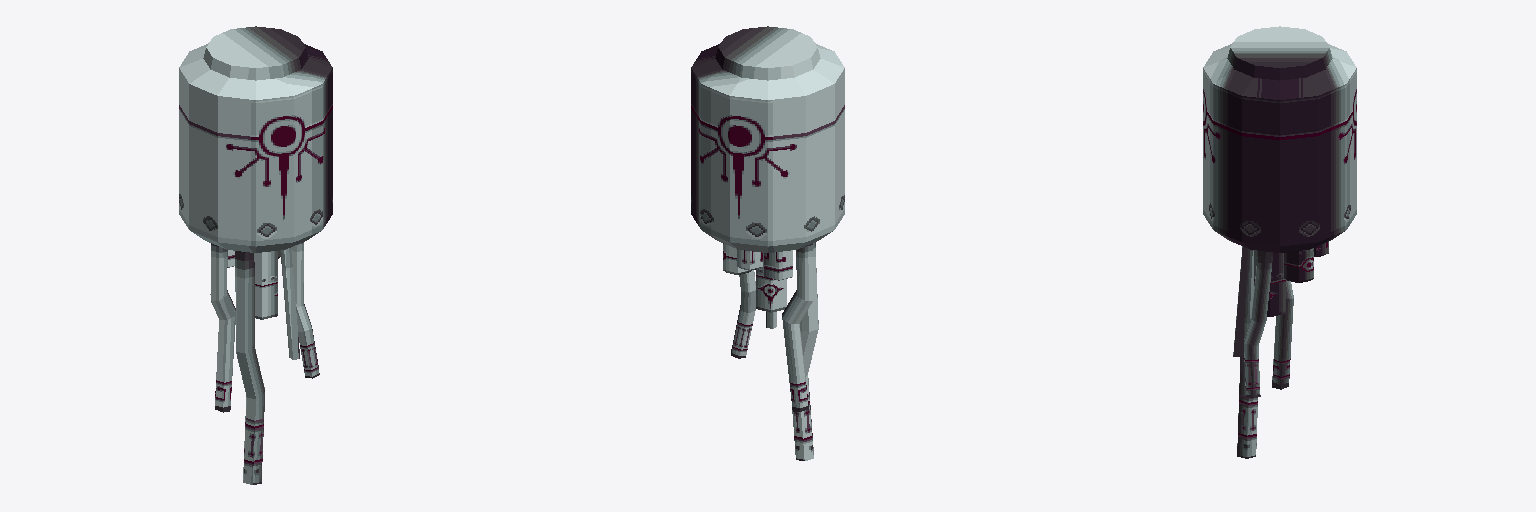
3 views of the same model, side by side, from view 1: azimuth 30°, elevation 25°; view 2: azimuth 150°, elevation 25°; view 3: azimuth 270°, elevation 25° (orthographic).
Parts seen in each view (by area): view 1: Mesh; view 2: Mesh; view 3: Mesh.
Boxes of the visible parts, <box> form: Mesh: <box>179,26,332,484</box>; Mesh: <box>691,26,844,460</box>; Mesh: <box>1203,26,1356,458</box>.
Bounding box in the file's own units: 111 × 333 × 111.
Materials: 1 (1 with a texture image).